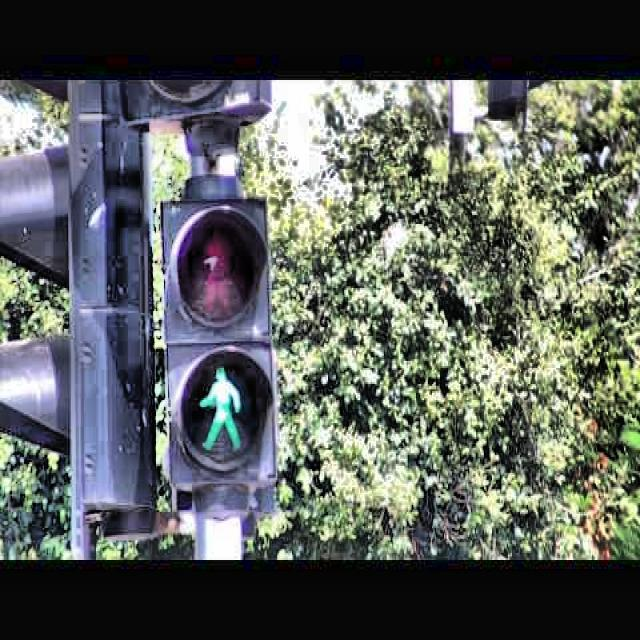green_light: (197, 362, 244, 453)
